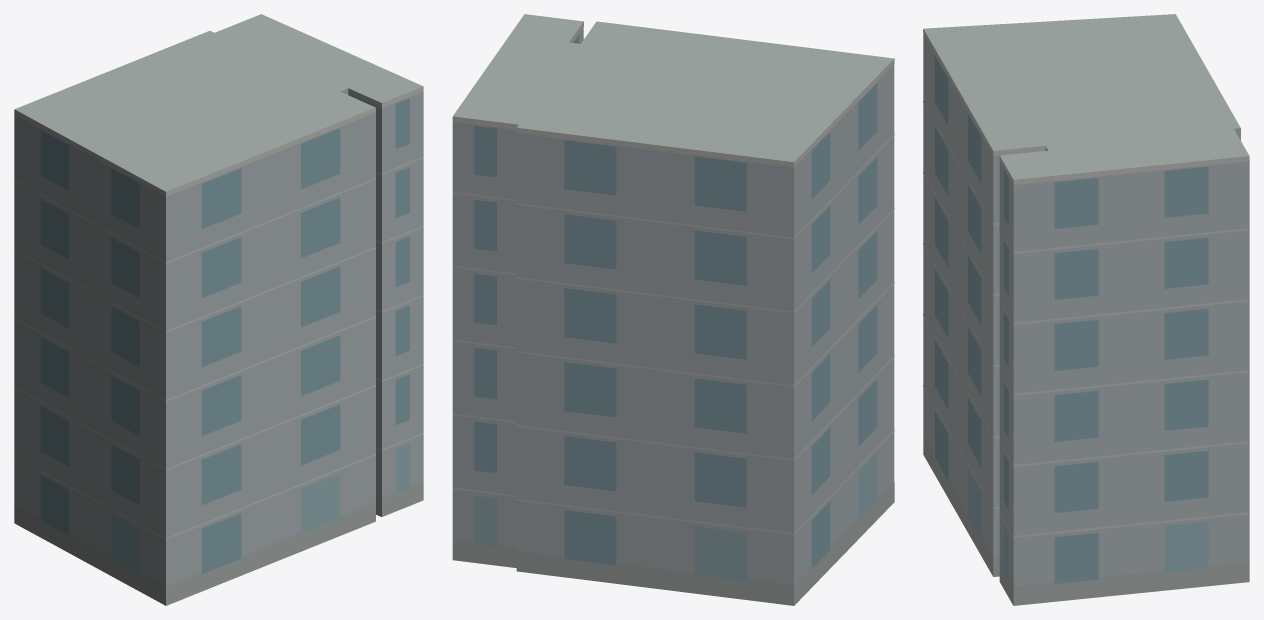
File: survey-upis-32666193.glb
The picture shows the model from 3 angles, left to right: view 1: azimuth 30°, elevation 25°; view 2: azimuth 150°, elevation 25°; view 3: azimuth 270°, elevation 25°; orthographic projection. The views are drawn at different scales.
Visible parts, largest first — view 1: survey-upis-32666193.tmp; view 2: survey-upis-32666193.tmp; view 3: survey-upis-32666193.tmp.
Boxes of the visible parts, x1,y1,x2,y2 form: survey-upis-32666193.tmp: [14, 14, 423, 605]; survey-upis-32666193.tmp: [452, 14, 894, 605]; survey-upis-32666193.tmp: [923, 14, 1249, 605].
Bounding box in the file's own units: 16.54 × 19.78 × 13.75.
